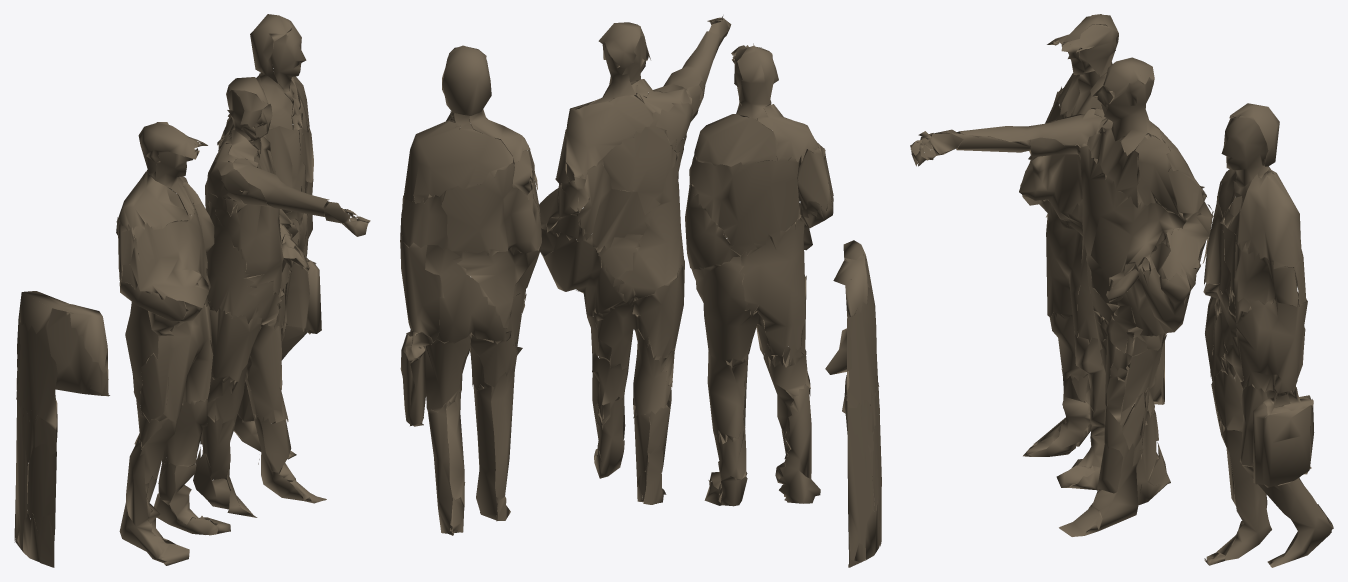
File: enterprise-full-h31-far.glb
The picture shows the model from 3 angles, left to right: view 1: azimuth 30°, elevation 25°; view 2: azimuth 150°, elevation 25°; view 3: azimuth 270°, elevation 25°; orthographic projection. The views are drawn at different scales.
Parts seen in each view (by area): view 1: tripo_node_cadad794-cdd0-43e0-8baa-f01673397db8; view 2: tripo_node_cadad794-cdd0-43e0-8baa-f01673397db8; view 3: tripo_node_cadad794-cdd0-43e0-8baa-f01673397db8.
Boxes of the visible parts, box(x1,y1,x2,y2) form: tripo_node_cadad794-cdd0-43e0-8baa-f01673397db8: box(14, 14, 370, 567); tripo_node_cadad794-cdd0-43e0-8baa-f01673397db8: box(400, 15, 881, 567); tripo_node_cadad794-cdd0-43e0-8baa-f01673397db8: box(910, 14, 1333, 567).
Bounding box in the file's own units: 2.16 × 2.47 × 2.06.
